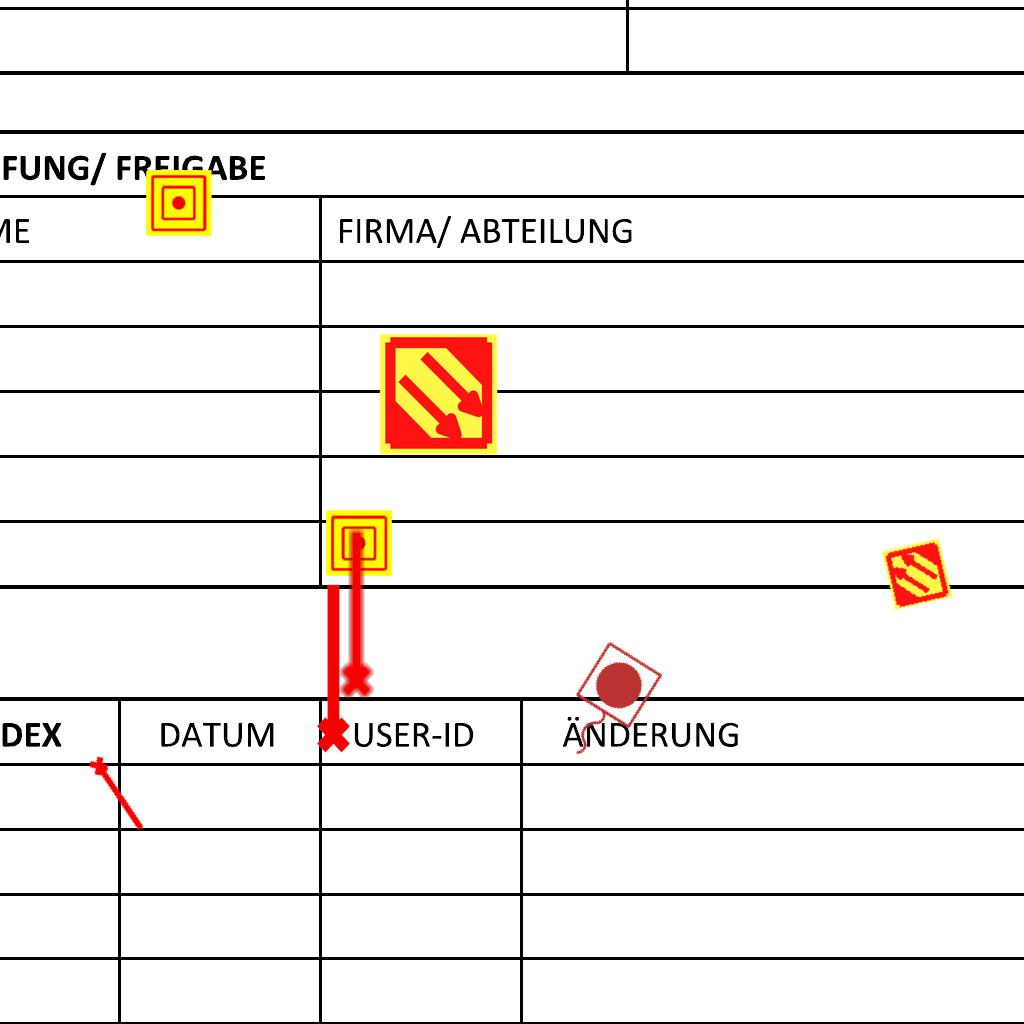ASR_Ansaugoeffnung: (308, 579, 354, 755), (331, 525, 377, 701), (84, 750, 154, 837)
ASR_Ansaugrauchmelder: (376, 332, 501, 457), (879, 536, 955, 612)
NAM-Nichtautomatischer_Melder: (326, 510, 392, 576), (146, 170, 212, 236)
Zugtaster: (542, 635, 668, 777)
